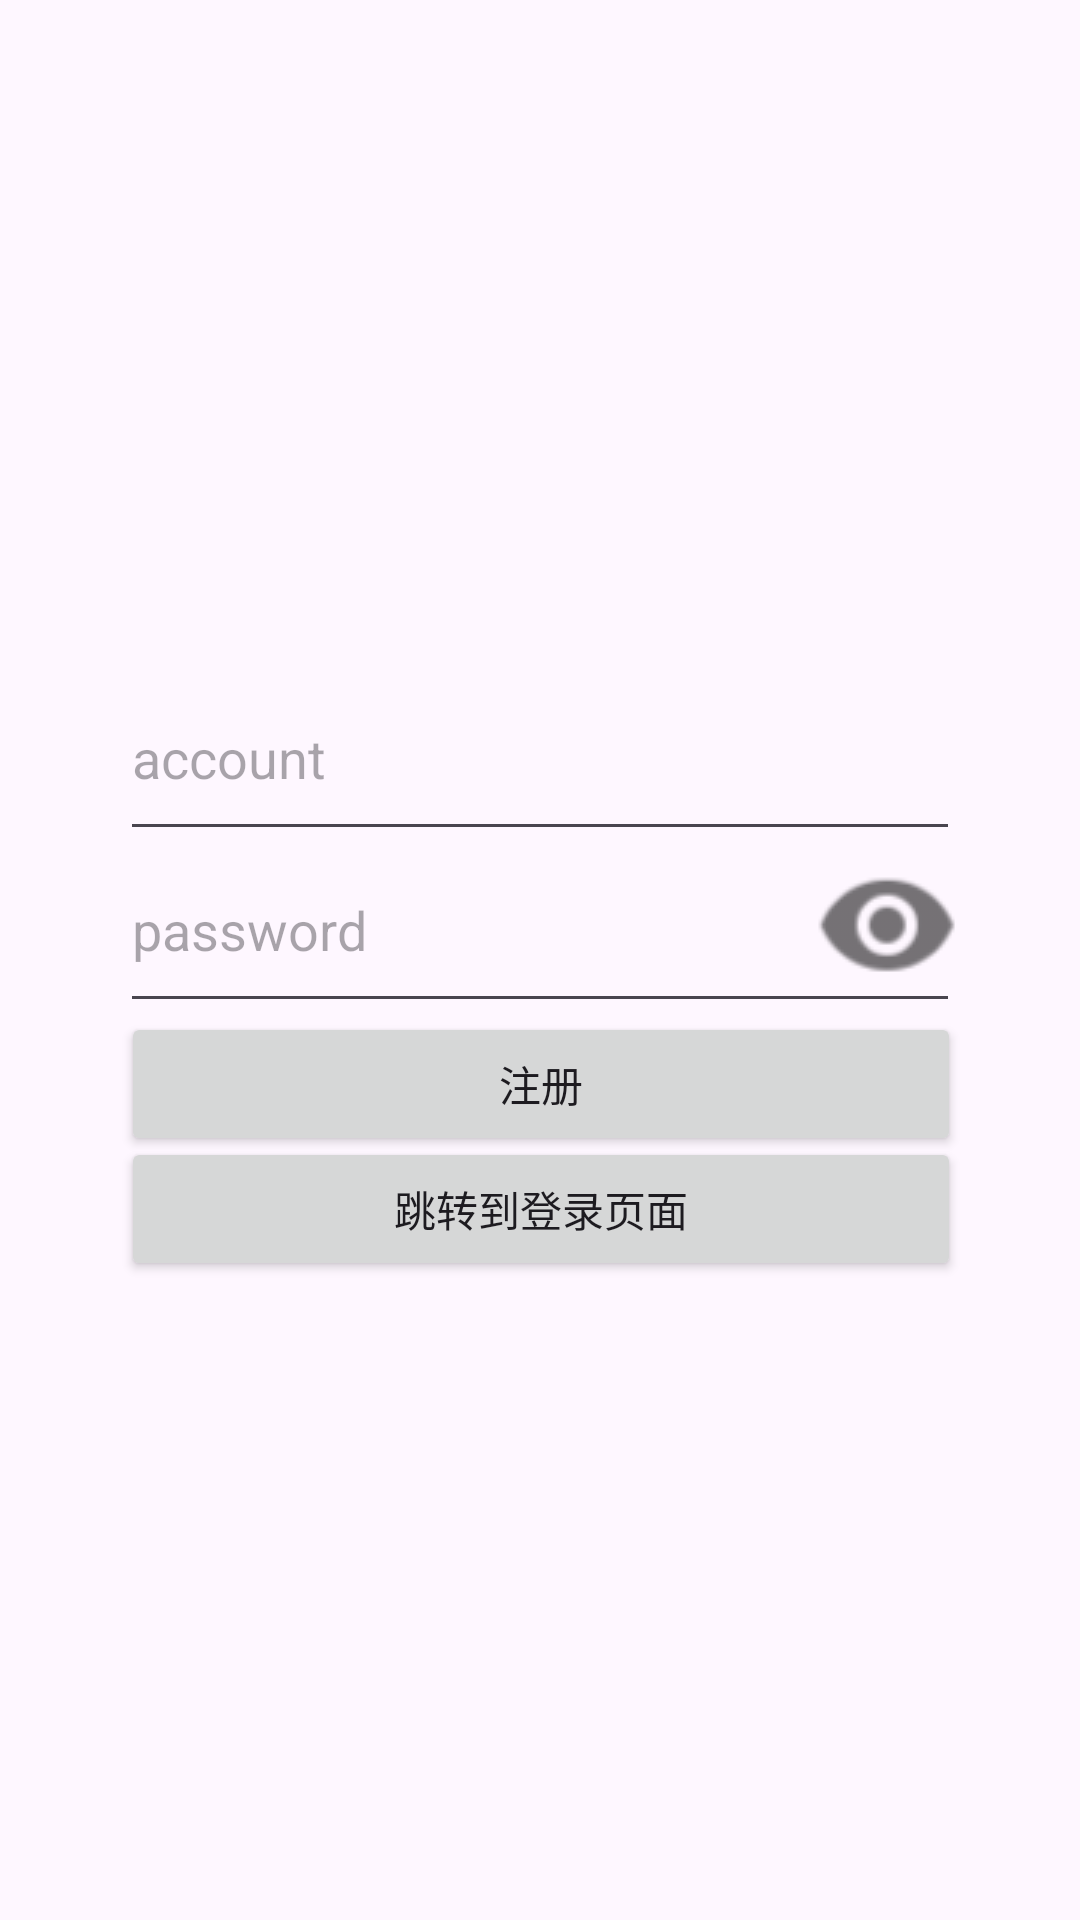

Point at icon controls on the screen. Image size 1080 × 1920, points as (x,y).
eye on: (887,925)
